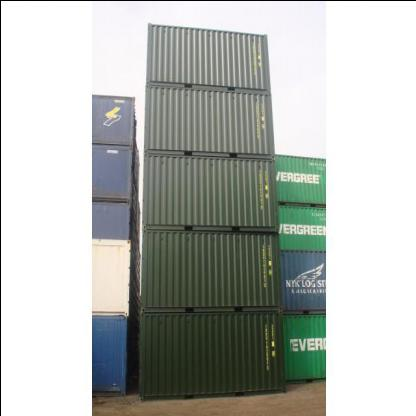Damage: (180, 314, 197, 332), (260, 311, 276, 325), (204, 154, 216, 168), (180, 230, 190, 244)
